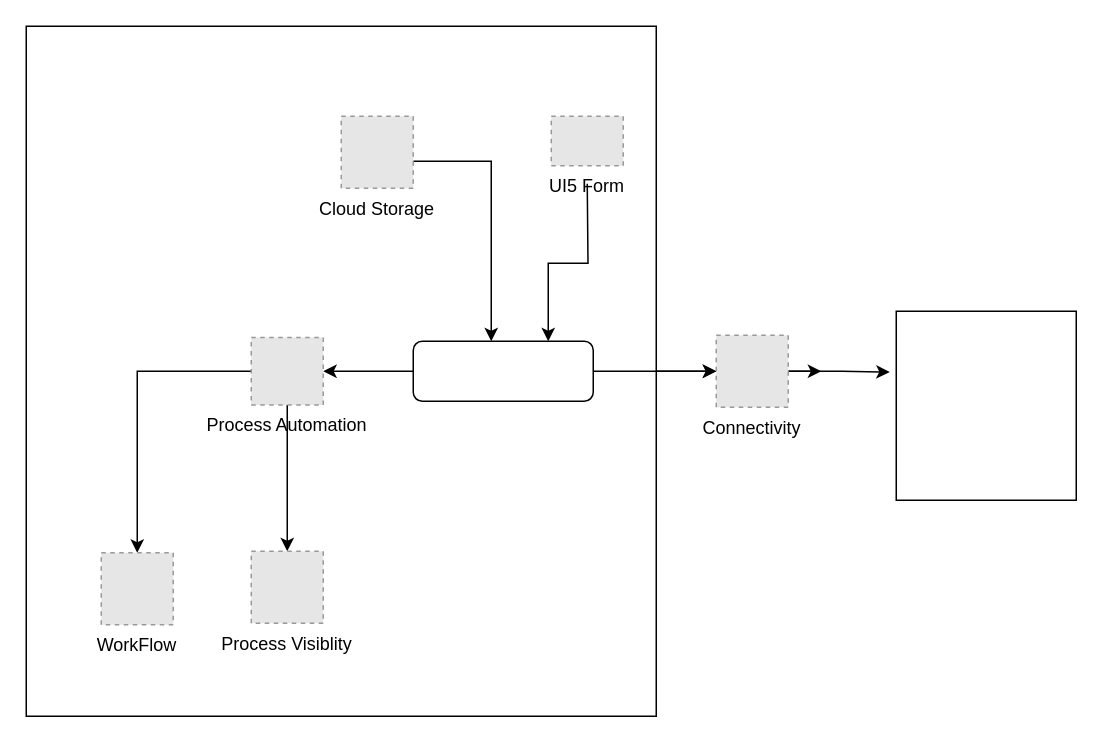
Image size: 1103x743. Some labels were removed from this diagram. Grey dashed boxes stand in for pictures. Each missing label, with the centre of its shape:
CAP Node jS: point 502,370
S/4 System: point 985,405
